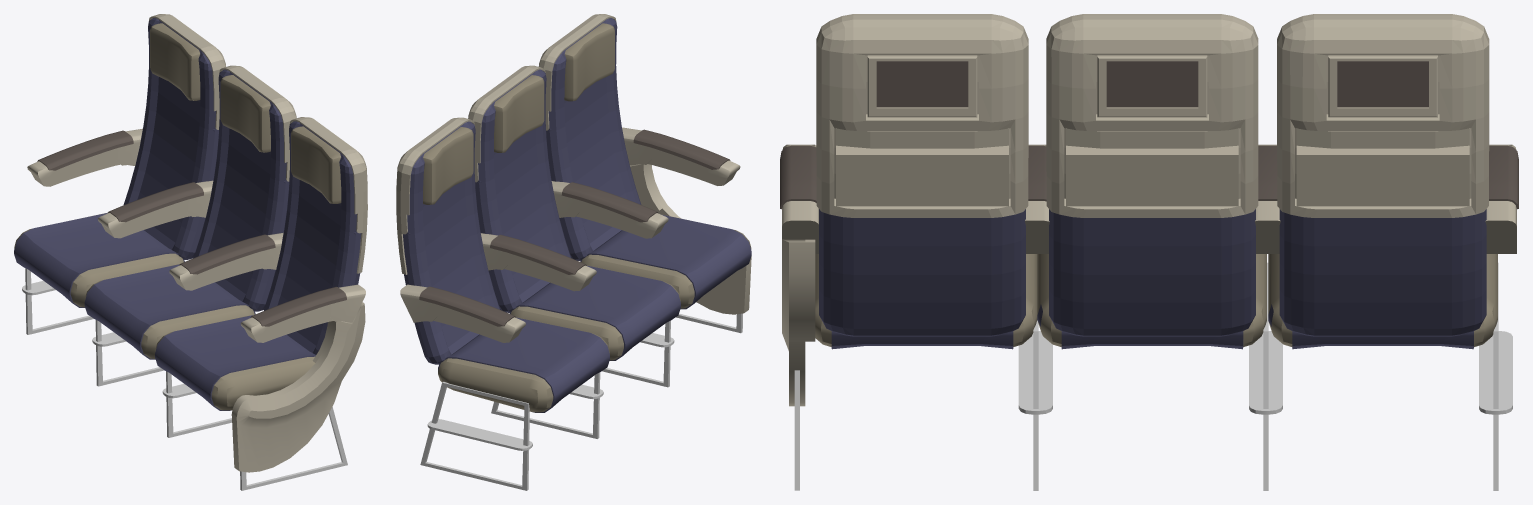
The model's file is air_chairset.fbx.
The picture shows the model from 3 angles, left to right: view 1: azimuth 30°, elevation 25°; view 2: azimuth 150°, elevation 25°; view 3: azimuth 270°, elevation 25°; orthographic projection. The views are drawn at different scales.
Parts seen in each view (by area): view 1: pCube32, pCube3, pCube19, pCube6, pCube5, pCube18, pCube29, pCube7, pCube24, pCube26, pCube30, pCube28 (+6 smaller); view 2: pCube19, pCube3, pCube32, pCube18, pCube29, pCube5, pCube26, pCube7, pCube30, pCube24, pCube25, pCube6 (+6 smaller); view 3: pCube19, pCube3, pCube32, pCube21, pCube17, pCube27, pCube15, pCube31, pCube23, pCube18, pCube6, pCube29 (+11 smaller).
Boxes of the visible parts, x1=… form: pCube32: x1=264, y1=117, x2=367, y2=354; pCube3: x1=194, y1=65, x2=296, y2=311; pCube19: x1=123, y1=14, x2=225, y2=259; pCube6: x1=231, y1=302, x2=365, y2=472; pCube5: x1=155, y1=315, x2=315, y2=410; pCube18: x1=14, y1=212, x2=184, y2=307; pCube29: x1=84, y1=264, x2=255, y2=359; pCube7: x1=240, y1=284, x2=365, y2=342; pCube24: x1=97, y1=180, x2=213, y2=238; pCube26: x1=27, y1=128, x2=142, y2=186; pCube30: x1=169, y1=232, x2=283, y2=290; pCube28: x1=220, y1=75, x2=270, y2=152; pCube19: x1=396, y1=117, x2=500, y2=364; pCube3: x1=468, y1=65, x2=570, y2=312; pCube32: x1=538, y1=14, x2=641, y2=261; pCube18: x1=438, y1=317, x2=609, y2=412; pCube29: x1=509, y1=265, x2=680, y2=360; pCube5: x1=580, y1=214, x2=751, y2=309; pCube26: x1=400, y1=284, x2=525, y2=342; pCube7: x1=622, y1=127, x2=740, y2=185; pCube30: x1=551, y1=181, x2=668, y2=238; pCube24: x1=481, y1=233, x2=596, y2=291; pCube25: x1=420, y1=381, x2=532, y2=490; pCube6: x1=630, y1=164, x2=751, y2=314; pCube19: x1=1277, y1=14, x2=1489, y2=336; pCube3: x1=1046, y1=14, x2=1258, y2=336; pCube32: x1=816, y1=14, x2=1028, y2=336; pCube21: x1=1296, y1=145, x2=1469, y2=206; pCube17: x1=836, y1=145, x2=1008, y2=206; pCube27: x1=1066, y1=145, x2=1238, y2=206; pCube15: x1=1097, y1=55, x2=1207, y2=117; pCube31: x1=867, y1=55, x2=977, y2=117; pCube23: x1=1328, y1=55, x2=1437, y2=117; pCube18: x1=1268, y1=254, x2=1497, y2=349; pCube6: x1=782, y1=239, x2=815, y2=406; pCube29: x1=1037, y1=254, x2=1266, y2=349.
Bounding box in the file's own units: 1.38 × 2.45 × 3.36.
